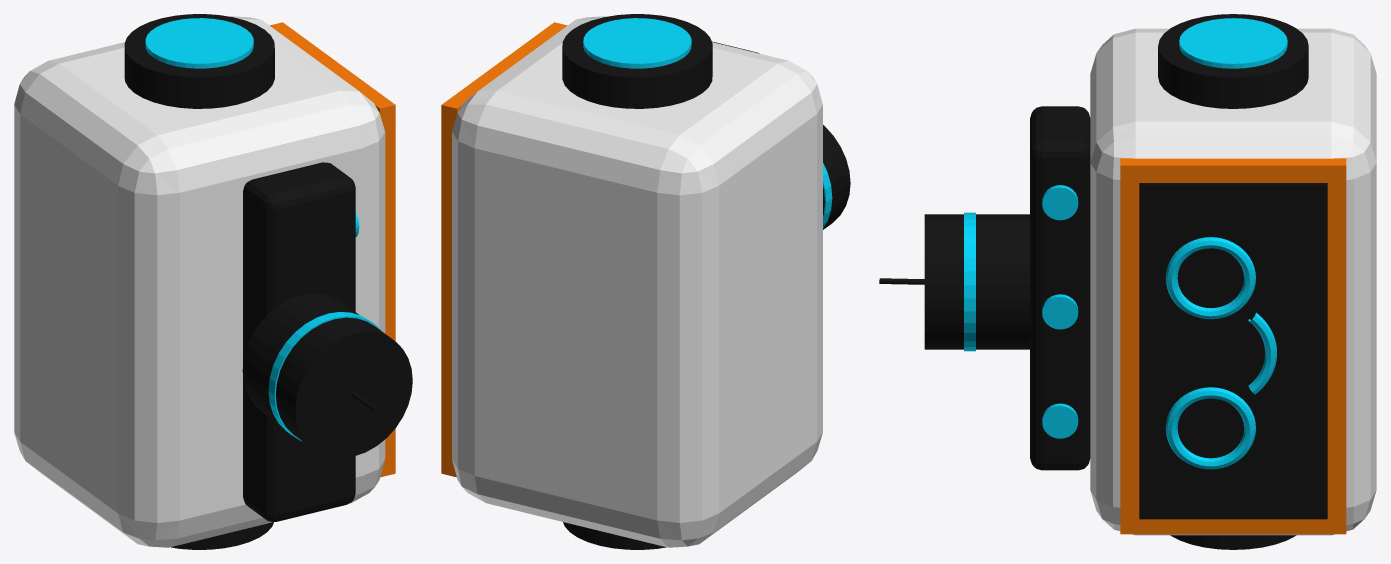
Rendered from head_link_visual.obj.
3 views of the same model, side by side, from view 1: azimuth 30°, elevation 25°; view 2: azimuth 150°, elevation 25°; view 3: azimuth 270°, elevation 25° (orthographic).
Bounding box in the file's own units: 0.216 × 0.353 × 0.33.
